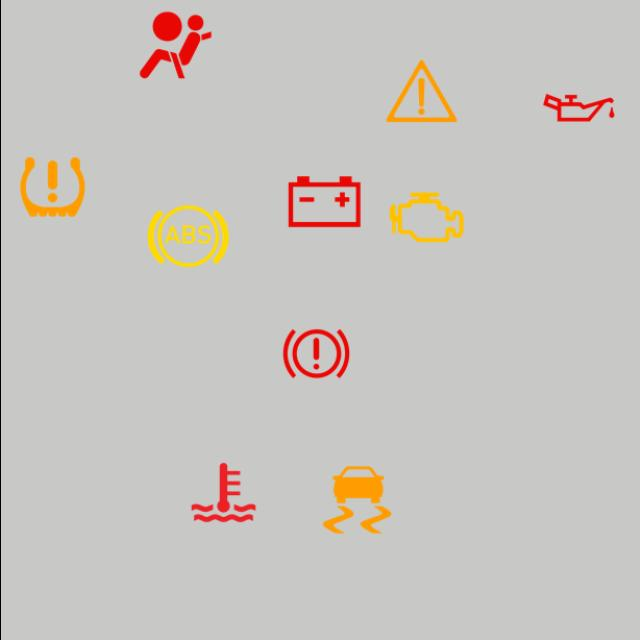Anti Lock Braking System: (143, 192, 231, 280)
Braking System Issue: (272, 310, 360, 398)
Charging System Issue: (280, 157, 368, 245)
Check Engine: (382, 174, 470, 262)
Electronic Stability Problem -ESP-: (312, 456, 400, 544)
Engine Overheating Warning Light: (178, 448, 266, 536)
Low Engine Oil Warning Light: (534, 64, 622, 152)
Low Tire Pressure Warning Light: (8, 143, 96, 231)
Master warning light: (376, 47, 464, 135)
SRS-Airbag: (130, 1, 218, 90)
